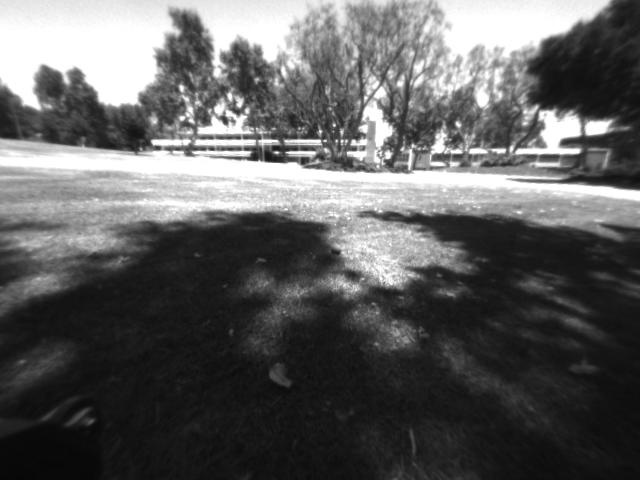dogtoy: (325, 240, 345, 258)
